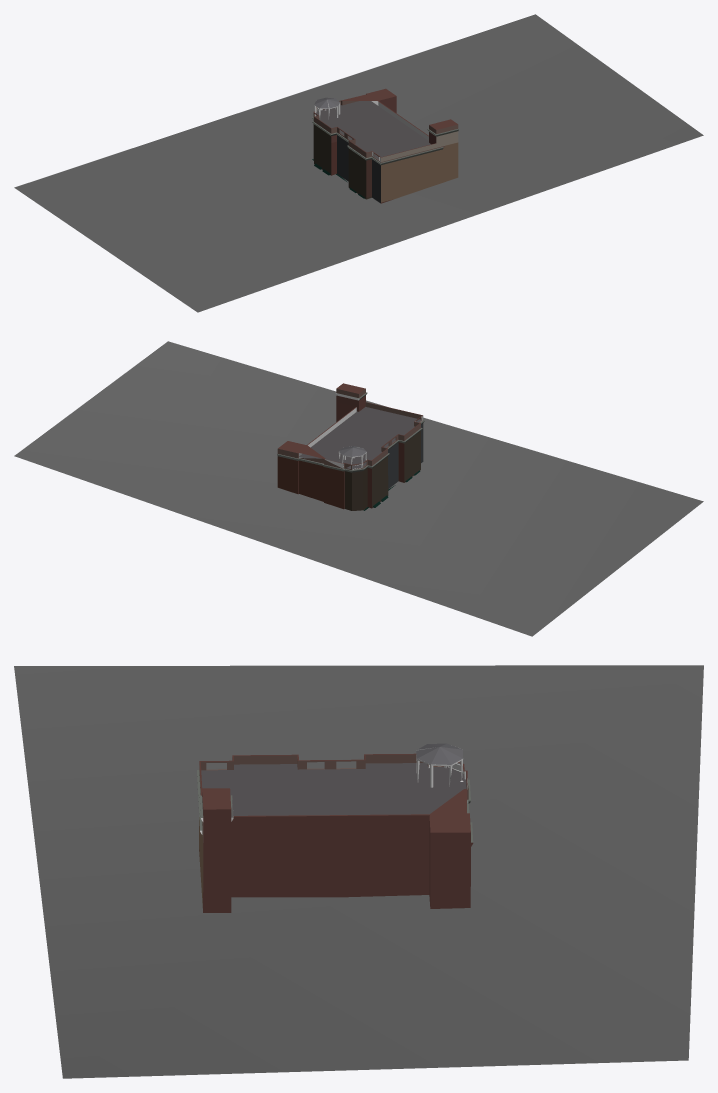
The model's file is 100-market-street.glb.
3 renders of one model, top to bottom at view 1: azimuth 30°, elevation 25°; view 2: azimuth 150°, elevation 25°; view 3: azimuth 270°, elevation 25°, orthographic. The views are drawn at different scales.
Parts seen in each view (by area): view 1: LOD0; view 2: LOD0; view 3: LOD0.
Part boxes in pixels (left/top/right/bottom): LOD0: left=14, top=14, right=703, bottom=312; LOD0: left=14, top=341, right=703, bottom=636; LOD0: left=14, top=665, right=703, bottom=1078.
Size of what is drawn, in the model's own units: 132 by 19.25 by 77.07.
Materials: 2 (2 with a texture image).
